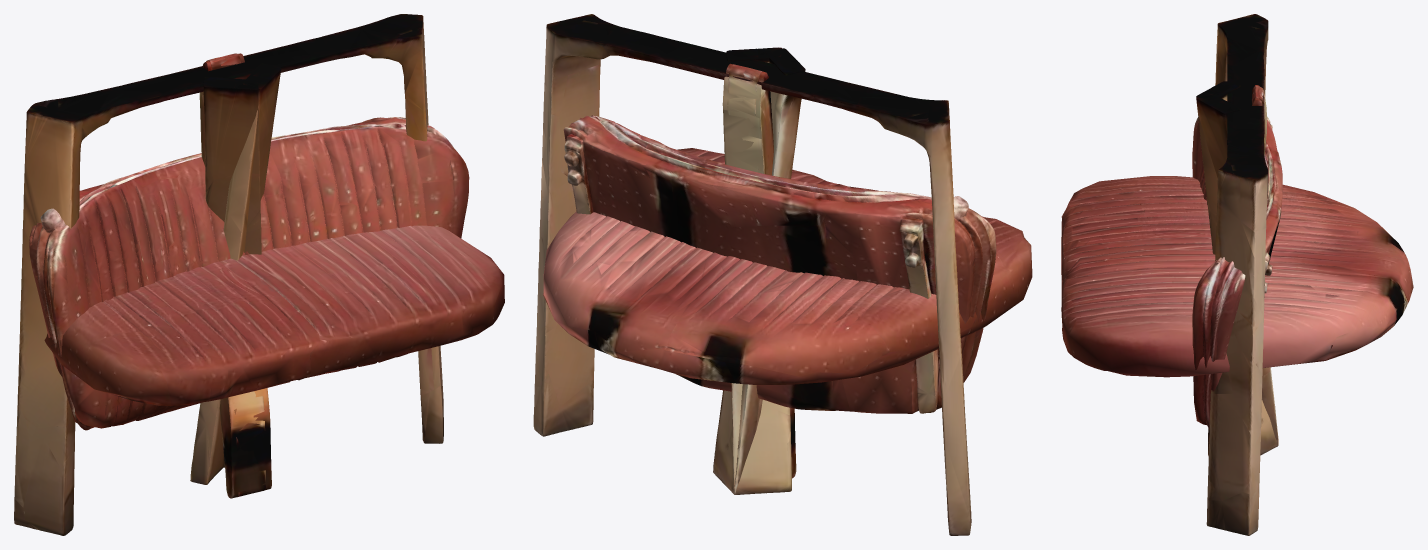
File: OK-INV-013K_29885.glb
3 renders of one model, left to right at view 1: azimuth 30°, elevation 25°; view 2: azimuth 150°, elevation 25°; view 3: azimuth 270°, elevation 25°, orthographic. The views are drawn at different scales.
Parts seen in each view (by area): view 1: root.0, root.1, root.2, root.3, root.4, root.5, root.6; view 2: root.0, root.1, root.2, root.3, root.4, root.6, root.5; view 3: root.0, root.2, root.1, root.4, root.3.
Part boxes in pixels (x1,y1,x2,y2): root.0: (44,225,504,405); root.1: (29,117,469,430); root.2: (14,14,443,535); root.3: (203,77,261,467); root.4: (190,63,281,484); root.5: (206,53,265,498); root.6: (199,53,271,497); root.0: (543,148,1032,384); root.1: (563,115,996,413); root.2: (533,14,971,535); root.3: (713,48,805,494); root.4: (726,47,791,494); root.6: (727,64,773,175); root.5: (722,63,796,478); root.0: (1061,176,1413,377); root.2: (1206,14,1268,535); root.1: (1192,116,1282,429); root.4: (1196,94,1278,444); root.3: (1196,81,1278,455).
Size of the model in its own units: 24244 by 22505 by 19975.
Materials: 1 (1 with a texture image).
